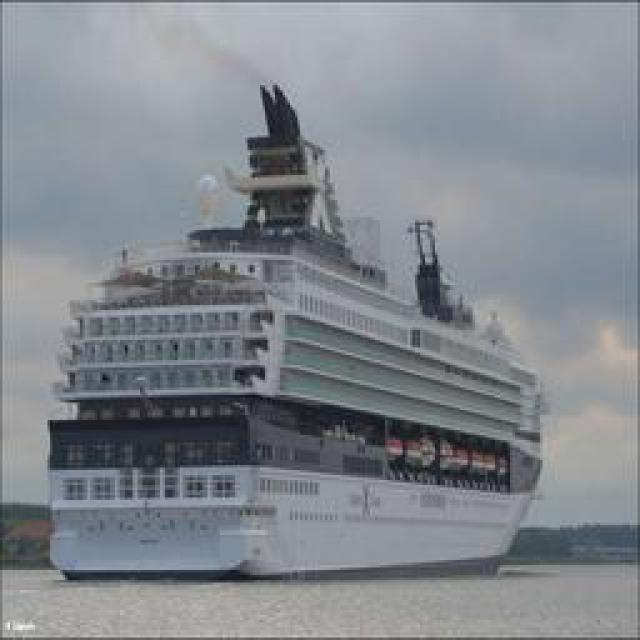Ship: (51, 71, 544, 581)
